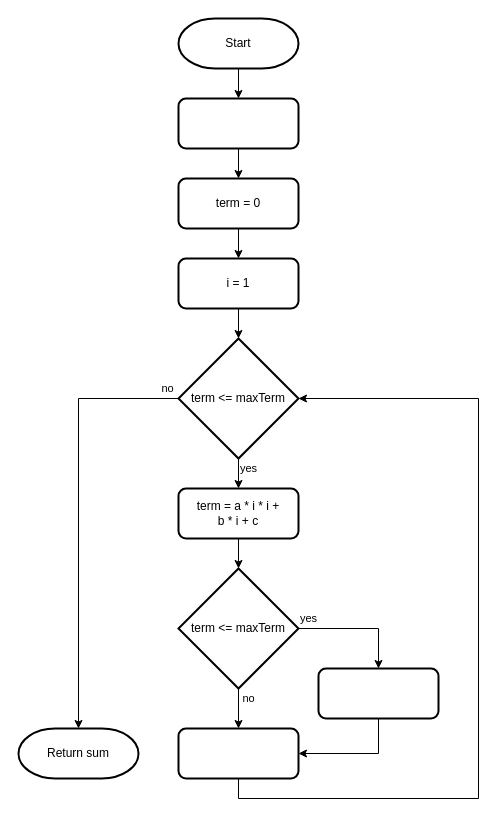
The diagram is 504 pixels wide and 824 high, and some of its shapes have lost their labels. The box of each missing label's shape, as (x1, y1, x2, y2) in pixels:
i = i + 1: (177, 727, 299, 779)
sum = 0: (177, 97, 299, 149)
sum = sum + term: (317, 667, 439, 719)
